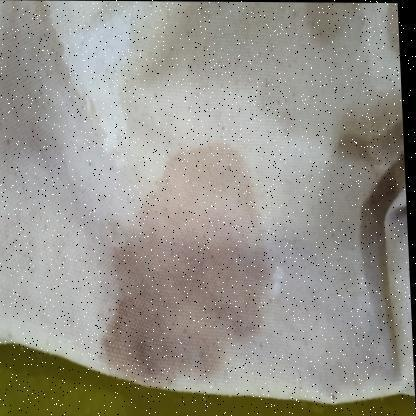coffee: (138, 206, 245, 347)
